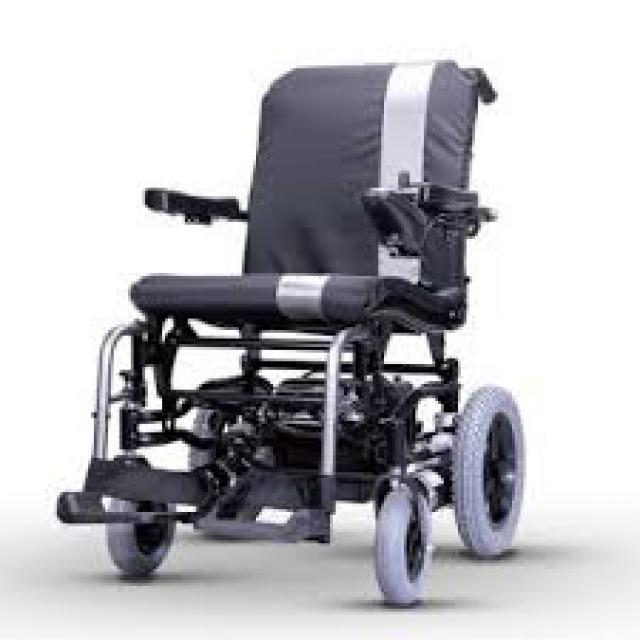wheelchair: (48, 42, 569, 614)
